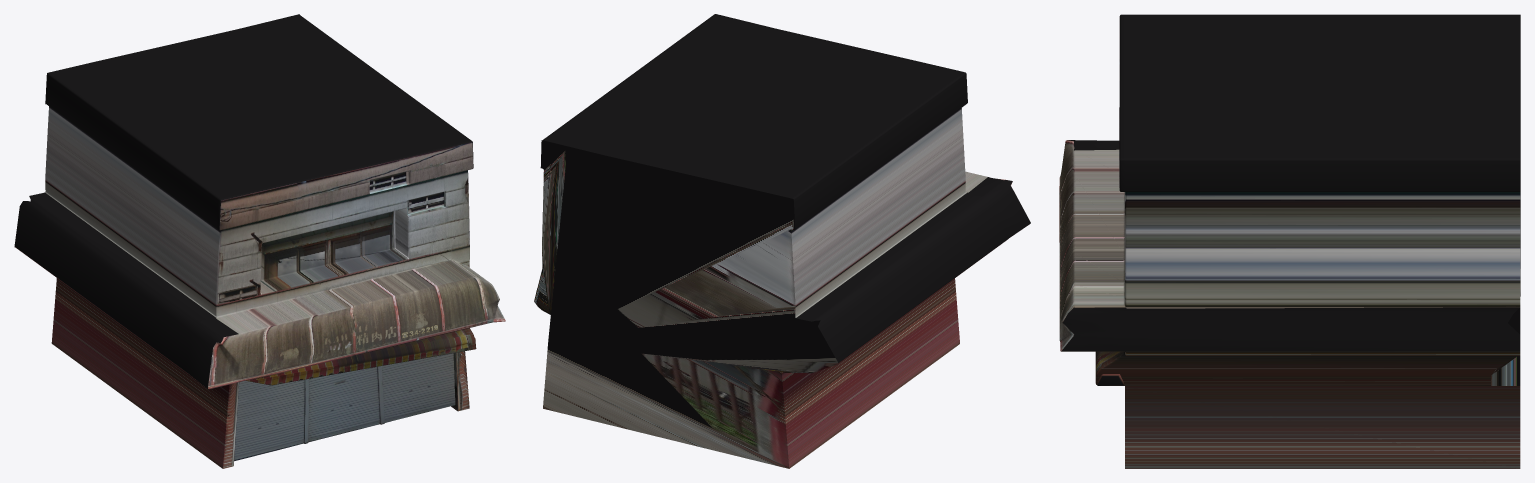
The model's file is Cafe.fbx.
The picture shows the model from 3 angles, left to right: view 1: azimuth 30°, elevation 25°; view 2: azimuth 150°, elevation 25°; view 3: azimuth 270°, elevation 25°; orthographic projection. The views are drawn at different scales.
Parts seen in each view (by area): view 1: Cafe, Cafe.001, Garagewall.001; view 2: Cafe.001, Cafe; view 3: Cafe, Cafe.001.
Boxes of the visible parts, x1,y1,x2,y2 form: Cafe: (14,14,505,389); Cafe.001: (14,14,469,468); Garagewall.001: (234,353,455,461); Cafe.001: (534,140,959,468); Cafe: (543,14,1030,363); Cafe: (1059,14,1520,385); Cafe.001: (1125,70,1520,468).
Bounding box in the file's own units: 992 × 861 × 1148.
